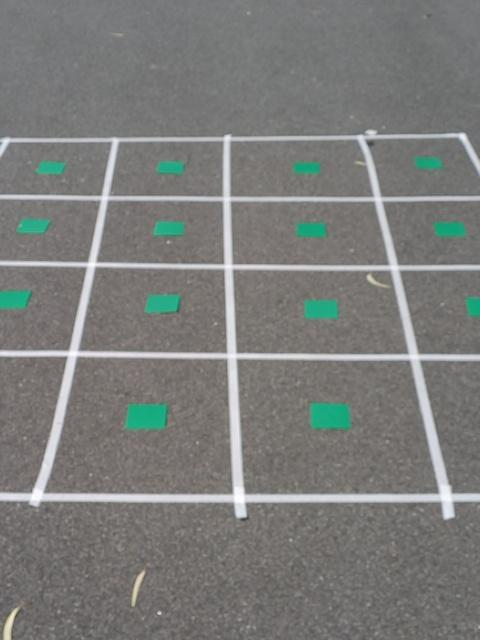weed: (308, 396, 352, 433), (123, 398, 170, 432), (142, 290, 181, 314), (303, 297, 341, 321), (13, 216, 57, 236), (150, 217, 187, 240), (0, 288, 33, 312), (294, 220, 330, 240), (32, 159, 70, 177), (154, 156, 186, 177), (432, 218, 467, 236), (291, 158, 321, 178), (413, 154, 443, 172), (461, 292, 480, 320)
